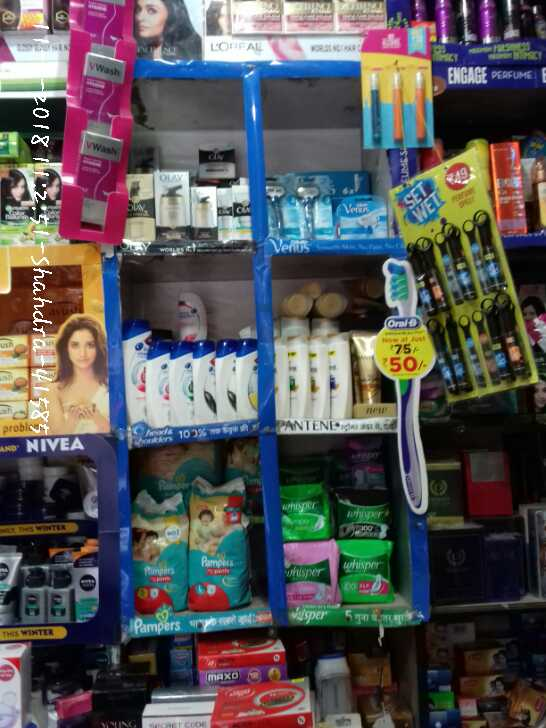venus: (297, 175, 336, 238), (336, 194, 387, 238), (268, 175, 297, 239)
